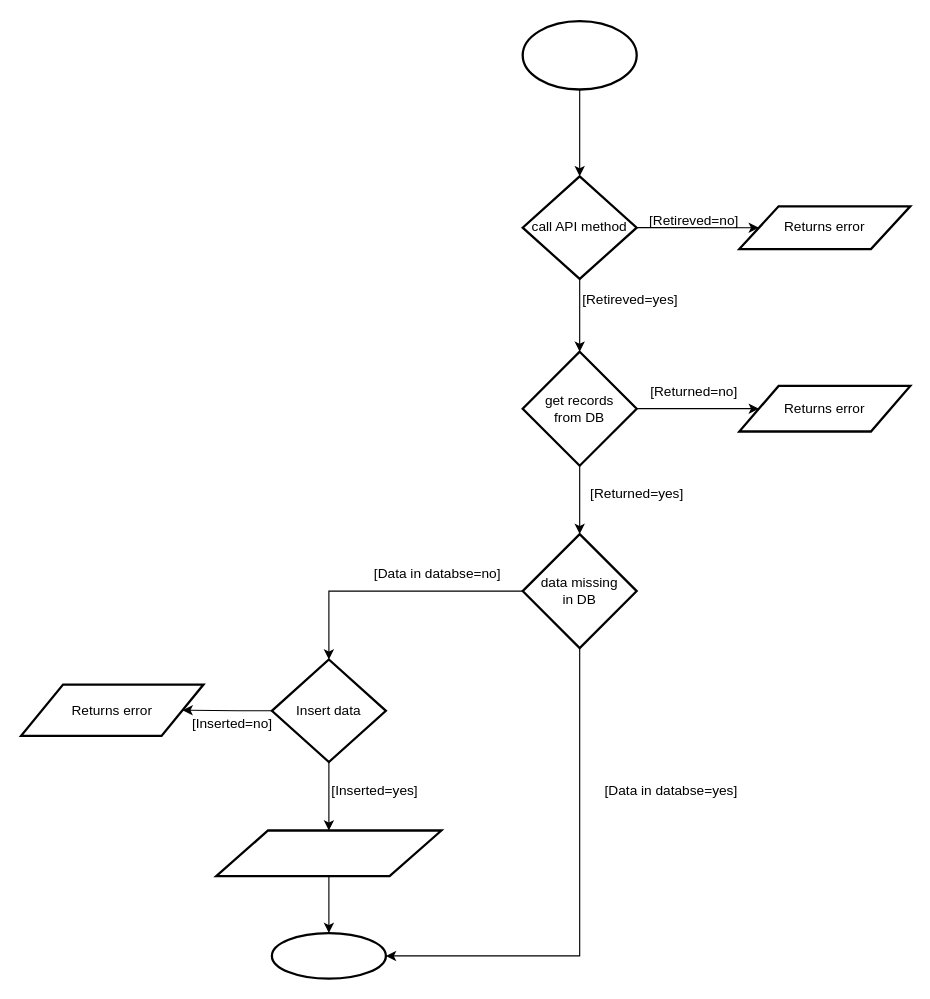
This 930x999 diagram has some shape labels left out. Each missing label, with the centre of its shape:
"End" belongs at [328,955].
"Returns query details" belongs at [328,853].
"Start" belongs at [579,54].
